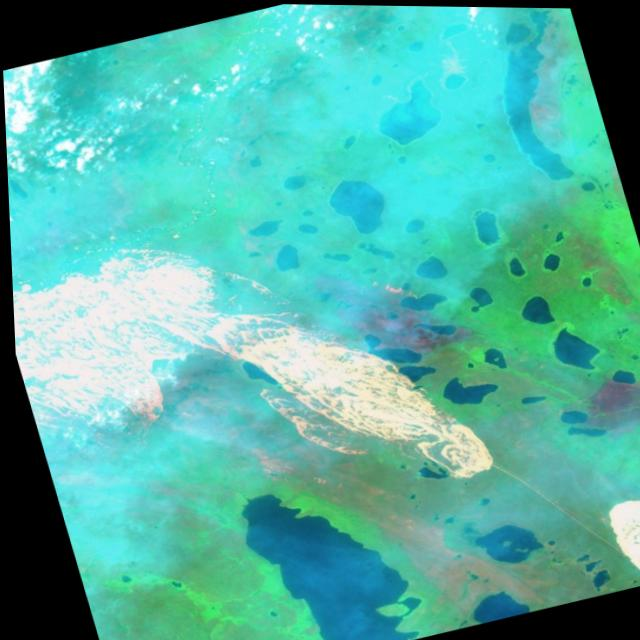fire: (359, 260, 419, 312)
